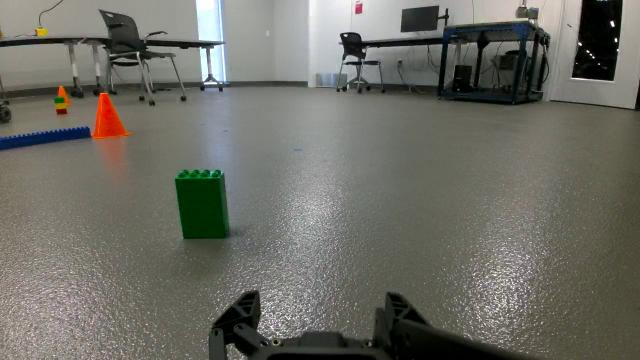lego: (165, 162, 248, 245)
